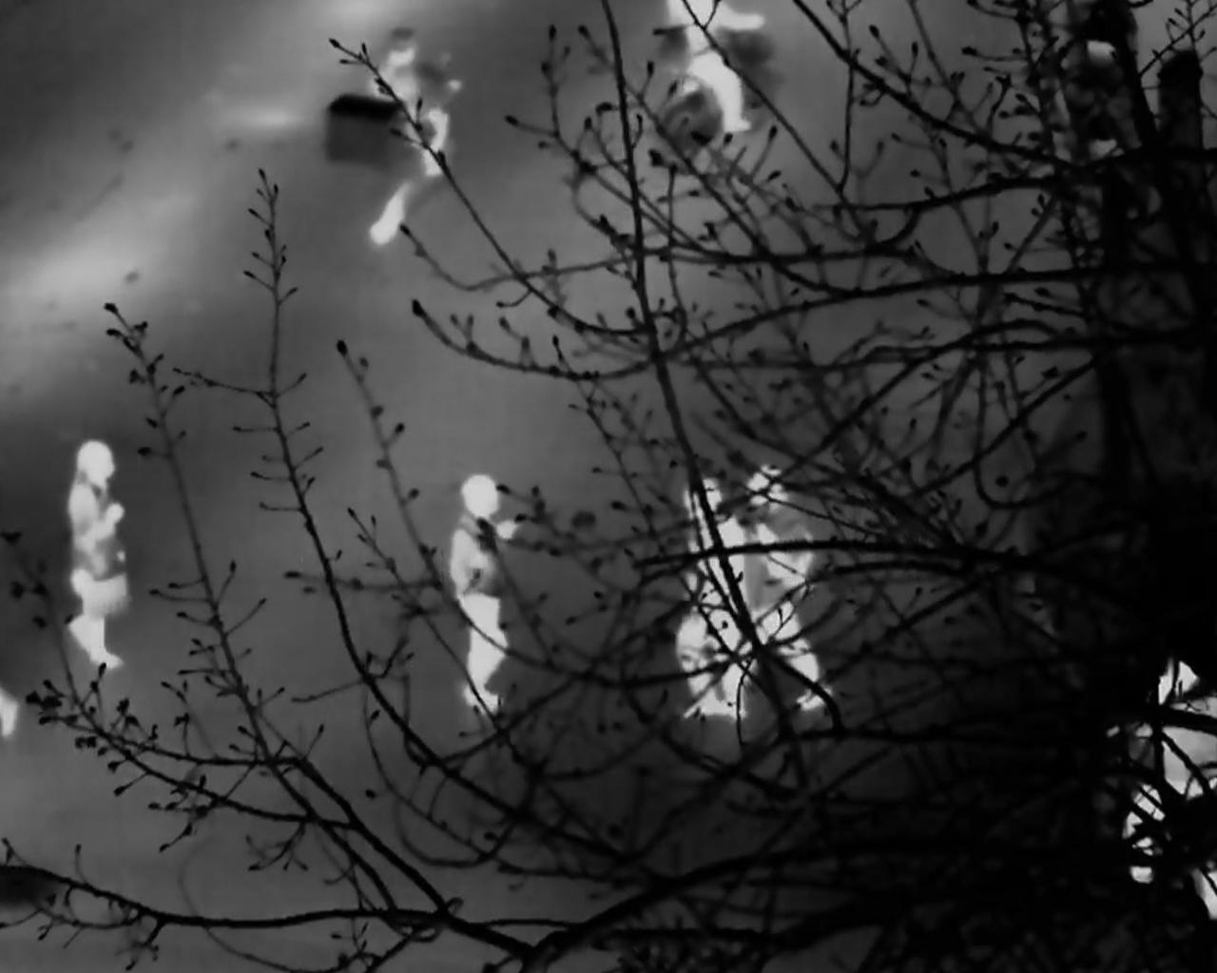person: (735, 465, 836, 714), (457, 472, 532, 715), (675, 476, 746, 728), (79, 437, 142, 652), (1149, 666, 1217, 848), (372, 37, 443, 189)
